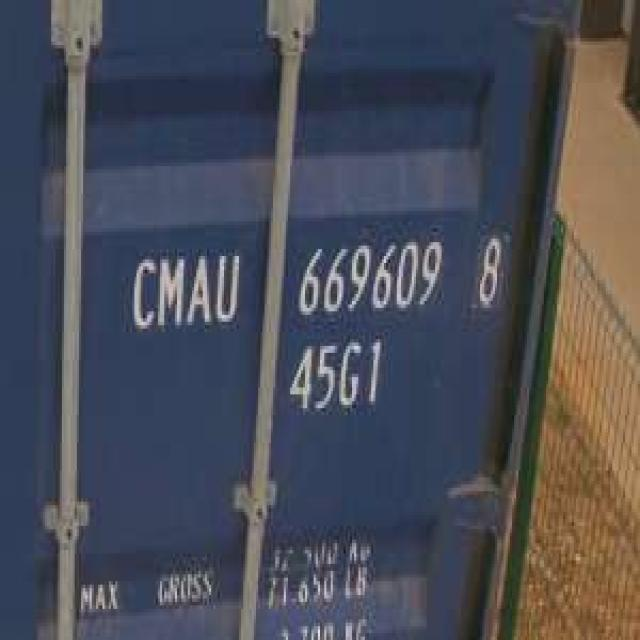dv: (471, 221, 508, 315)
owner: (124, 238, 243, 336)
serial: (290, 225, 446, 322)
size: (284, 328, 386, 418)
